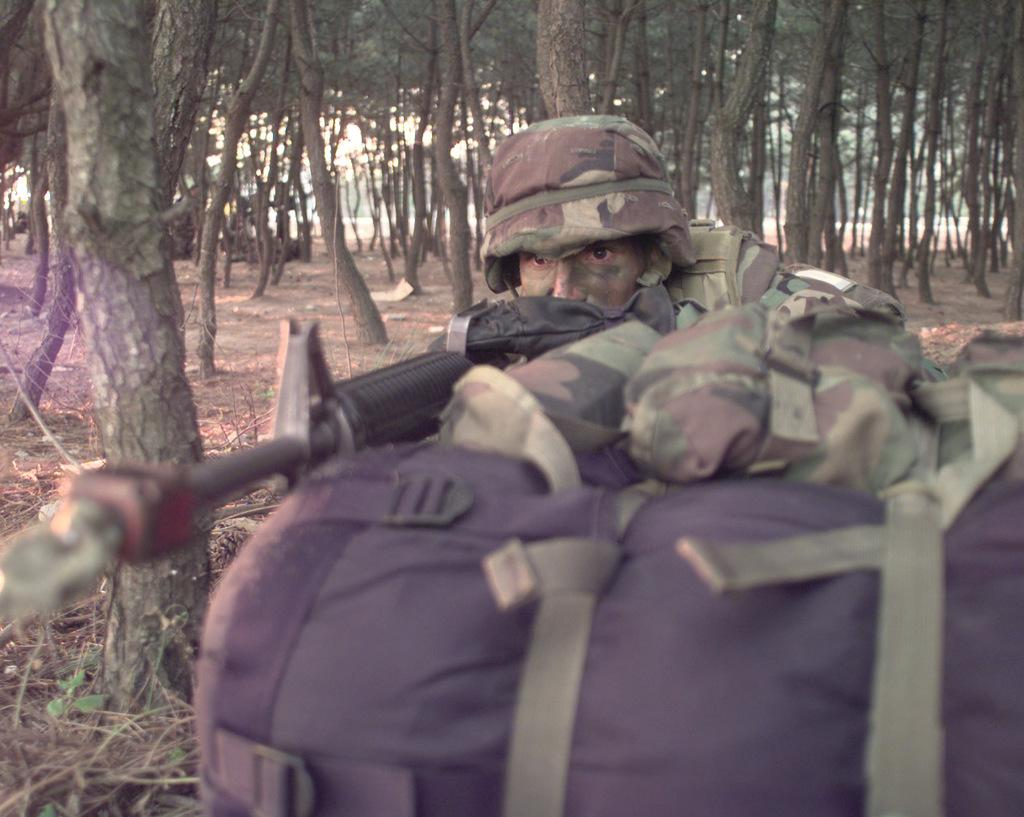Rifle: (0, 314, 473, 609)
